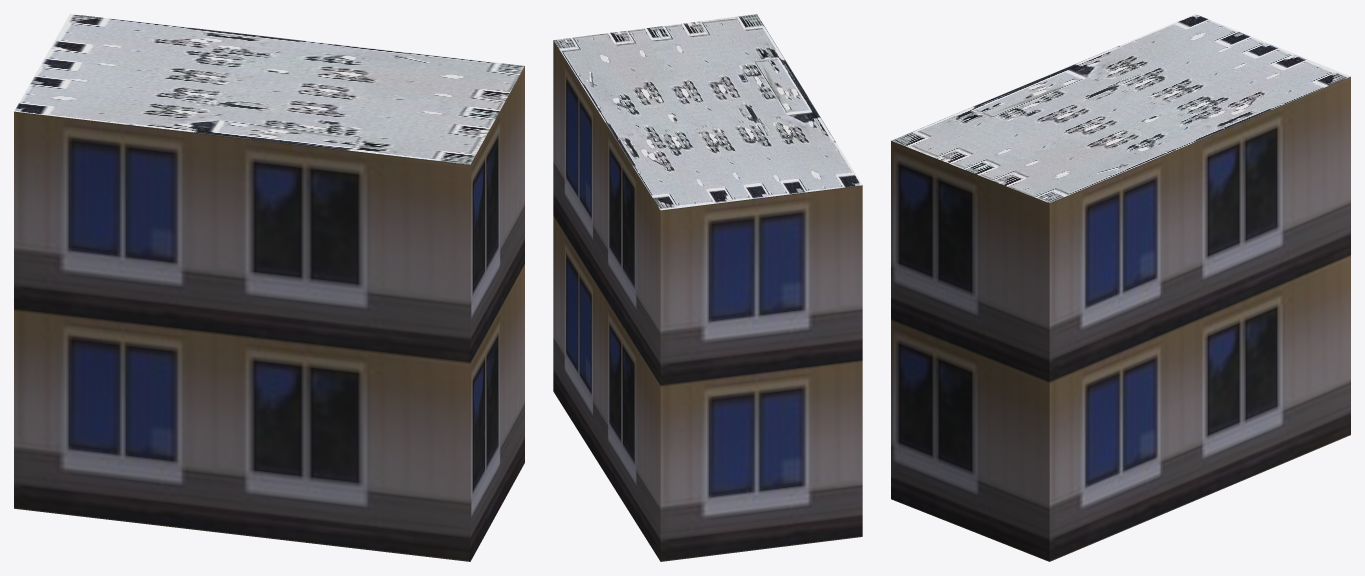
The model's file is ResTex__4317.fbx.
3 views of the same model, side by side, from view 1: azimuth 30°, elevation 25°; view 2: azimuth 150°, elevation 25°; view 3: azimuth 270°, elevation 25° (orthographic). The views are drawn at different scales.
Parts seen in each view (by area): view 1: CityEngineMaterial_5_m, CityEngineMaterial_m; view 2: CityEngineMaterial_5_m, CityEngineMaterial_m; view 3: CityEngineMaterial_5_m, CityEngineMaterial_m.
Boxes of the visible parts, x1,y1,x2,y2 form: CityEngineMaterial_5_m: (14, 66, 524, 561); CityEngineMaterial_m: (14, 14, 524, 164); CityEngineMaterial_5_m: (553, 40, 862, 561); CityEngineMaterial_m: (553, 14, 861, 210); CityEngineMaterial_5_m: (891, 76, 1350, 561); CityEngineMaterial_m: (891, 14, 1350, 203).
Bounding box in the file's own units: 6.8 × 6 × 6.97.
Materials: 2 (2 with a texture image).
